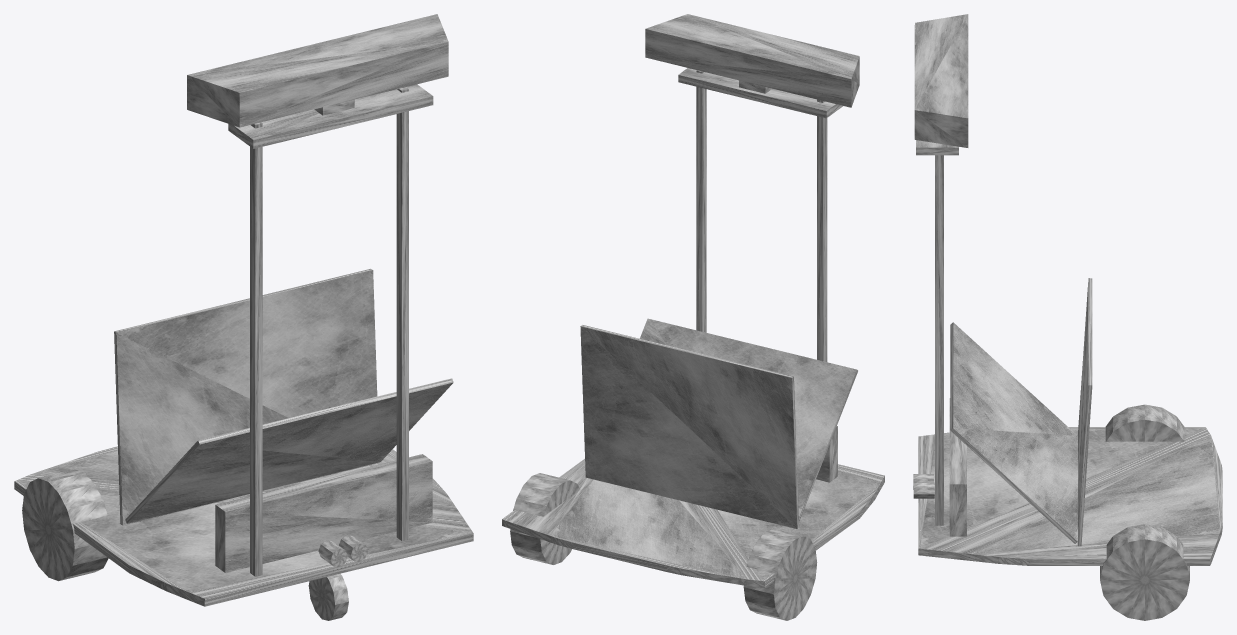
The model's file is robot_model_v2.dae.
3 views of the same model, side by side, from view 1: azimuth 30°, elevation 25°; view 2: azimuth 150°, elevation 25°; view 3: azimuth 270°, elevation 25° (orthographic). The views are drawn at different scales.
Parts seen in each view (by area): view 1: node; view 2: node; view 3: node.
Boxes of the visible parts, bbox=[...] form: node: bbox=[14, 14, 473, 620]; node: bbox=[502, 14, 884, 620]; node: bbox=[913, 14, 1222, 620].
Size of the model in its own units: 0.3473 by 0.5922 by 0.3403.
Materials: 1 (1 with a texture image).
